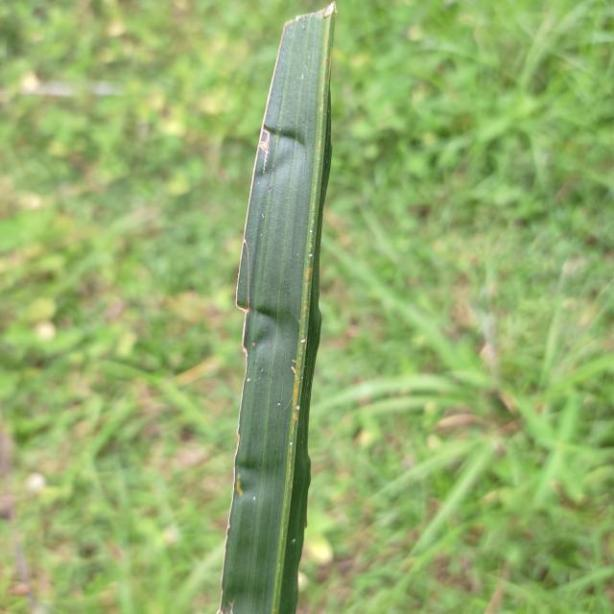Boron: (219, 3, 336, 614)
